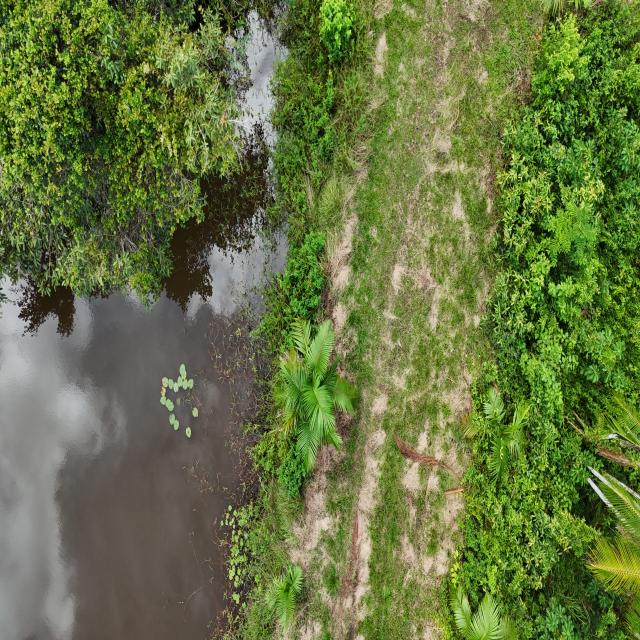vegetation: (446, 1, 639, 638), (0, 0, 248, 310)
